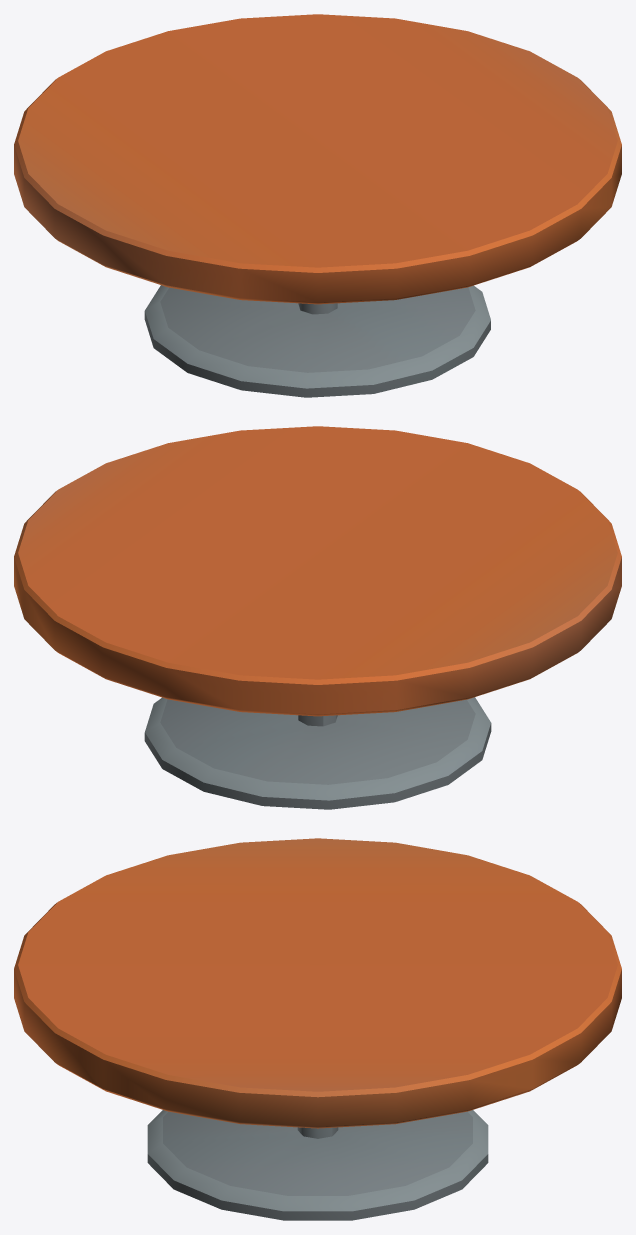
File: kkr.table_round_a.glb
3 views of the same model, one above another, from view 1: azimuth 30°, elevation 25°; view 2: azimuth 150°, elevation 25°; view 3: azimuth 270°, elevation 25° (orthographic).
Parts seen in each view (by area): view 1: table_round_A; view 2: table_round_A; view 3: table_round_A.
Part boxes in pixels (<box>): table_round_A: <box>14,14,621,397</box>; table_round_A: <box>14,426,621,809</box>; table_round_A: <box>14,838,621,1220</box>.
Bounding box in the file's own units: 2.24 × 0.7449 × 2.24.
Materials: 1 (1 with a texture image).
